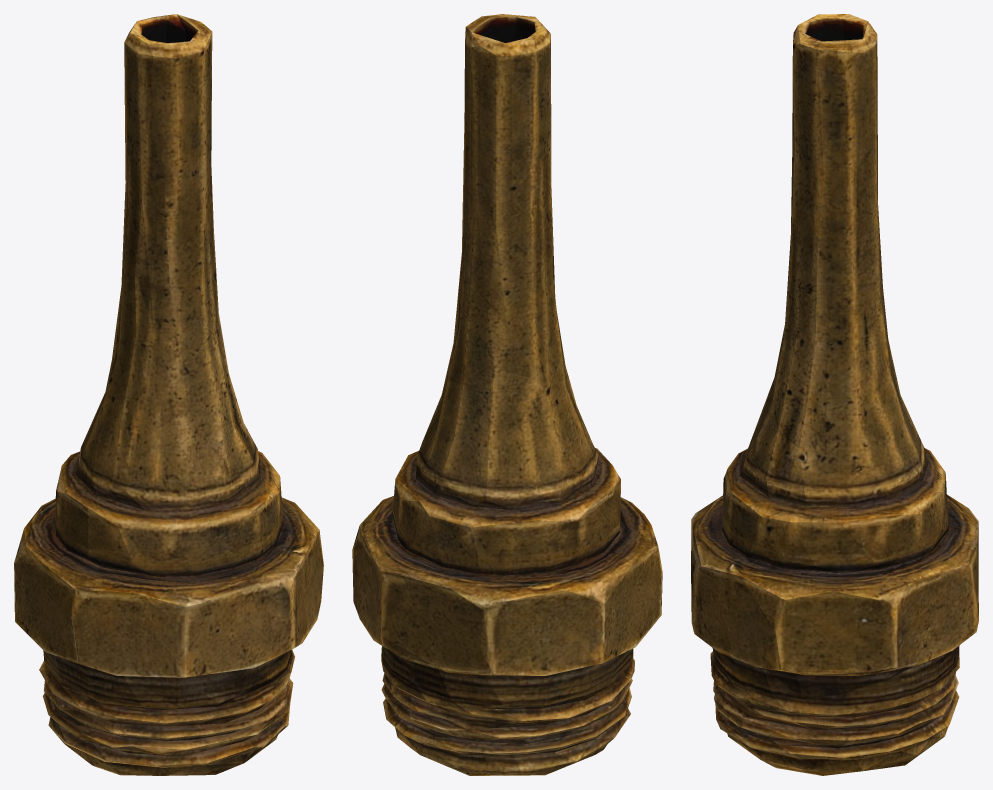
3 views of the same model, side by side, from view 1: azimuth 30°, elevation 25°; view 2: azimuth 150°, elevation 25°; view 3: azimuth 270°, elevation 25° (orthographic).
Parts seen in each view (by area): view 1: geometry_0; view 2: geometry_0; view 3: geometry_0.
Part boxes in pixels (x1,y1,x2,y2): geometry_0: (14,14,323,775); geometry_0: (352,14,662,775); geometry_0: (691,14,978,775).
Bounding box in the file's own units: 0.3715 × 1 × 0.3693.
Materials: 1 (1 with a texture image).
